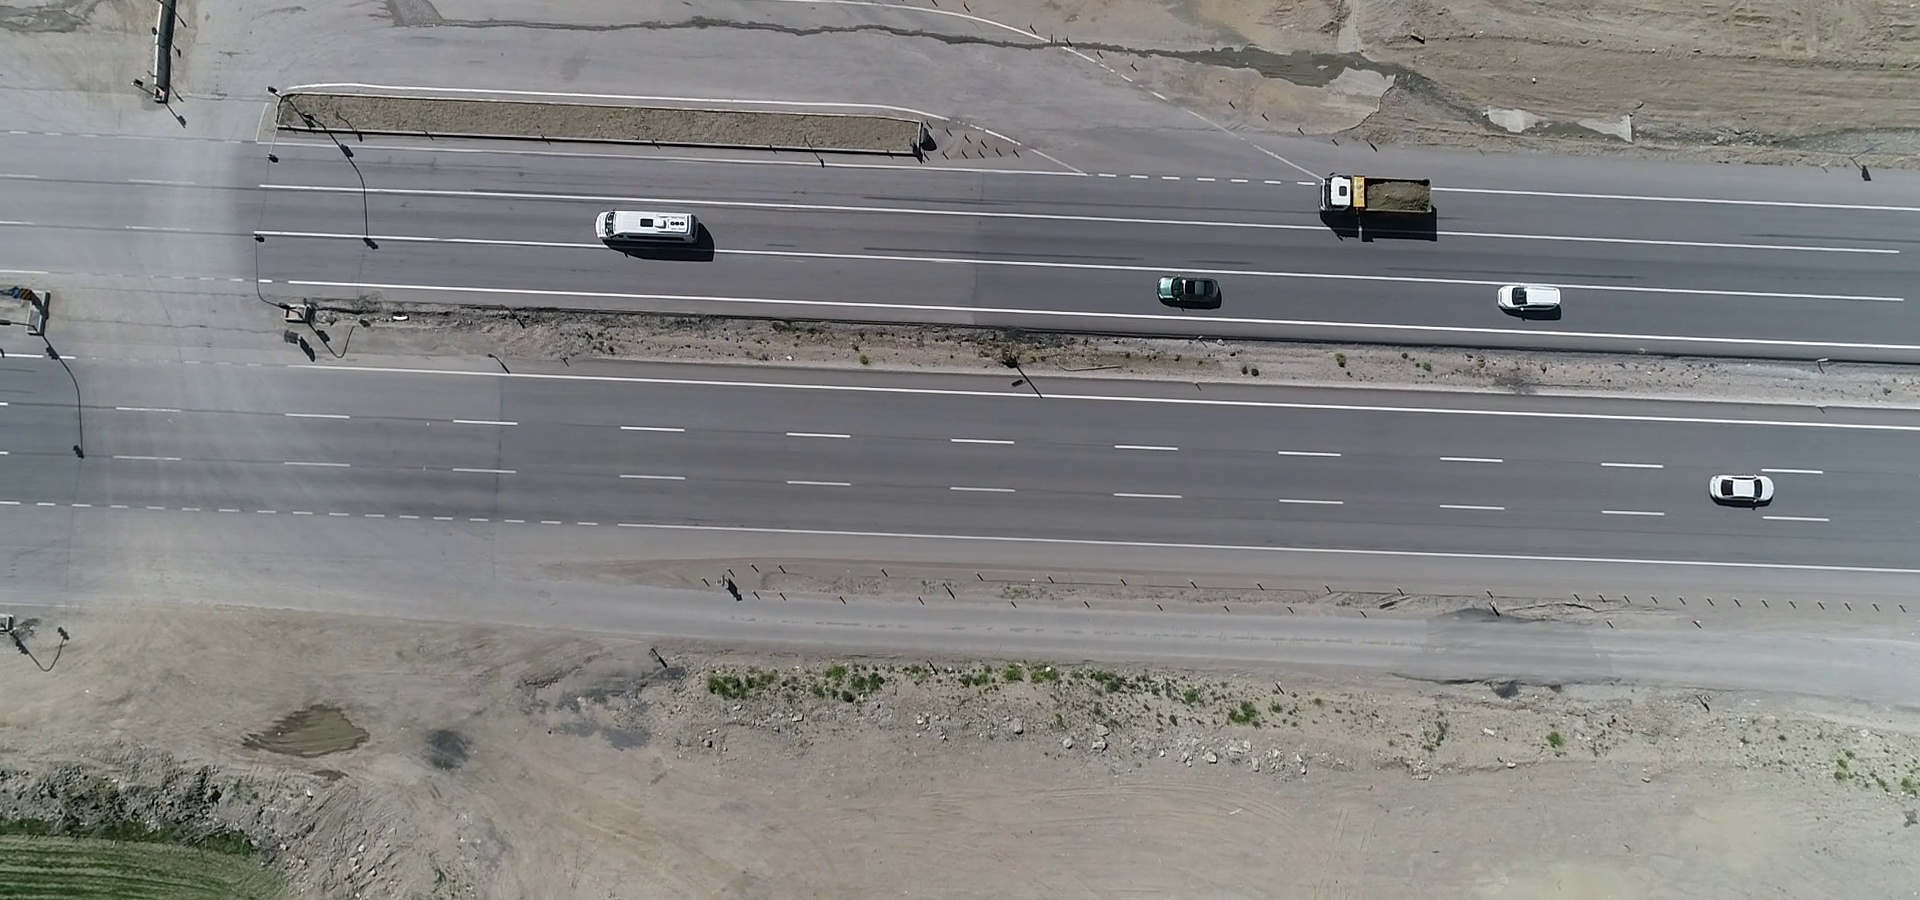araba: (1142, 264, 1237, 306), (1712, 463, 1787, 508), (1494, 276, 1571, 315)
kamyon: (1314, 163, 1450, 228)
otobus: (587, 201, 705, 251)
